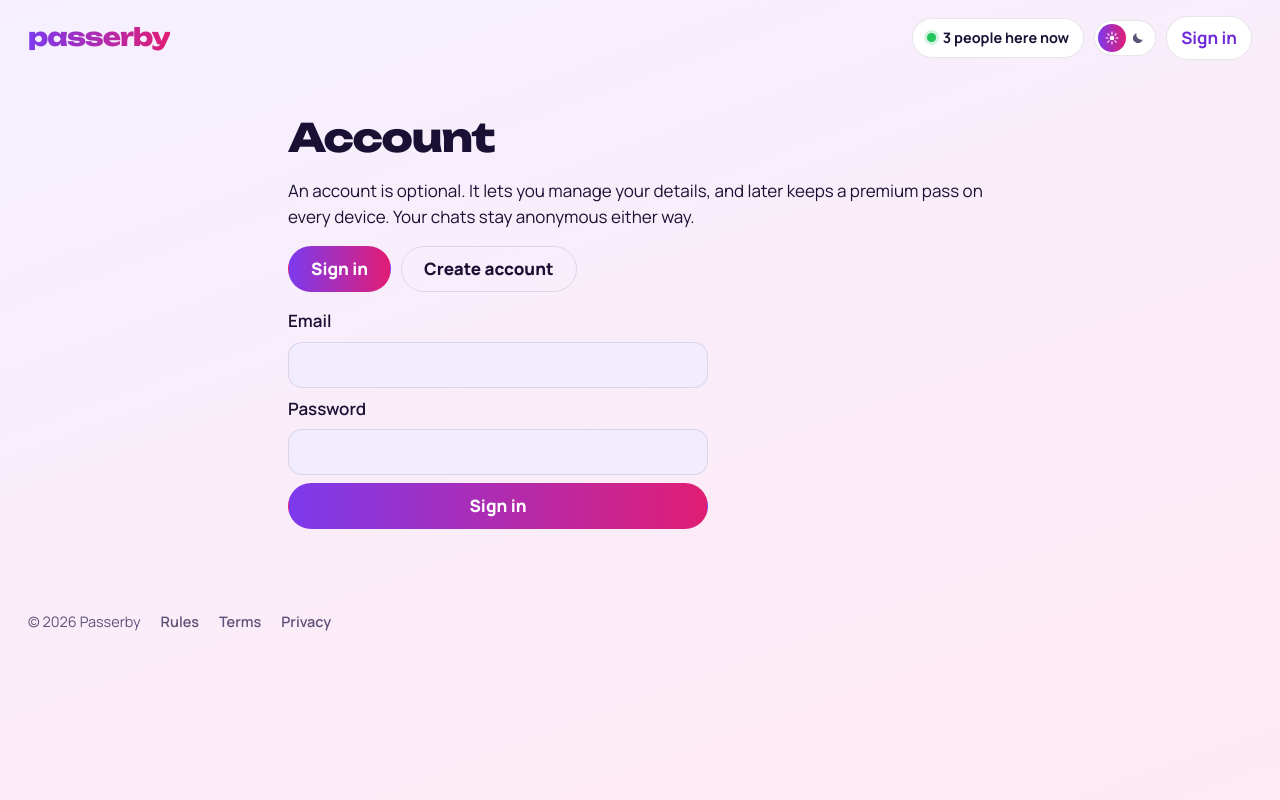
Test case: the question on the sign-up form › sends m as the answer
The image size is (1280, 800).
expect the form "Sign in" is shown: met, box x1=288 y1=308 x2=708 y2=529
Click the button "Create account": (489, 269) x1=401 y1=246 x2=576 y2=292
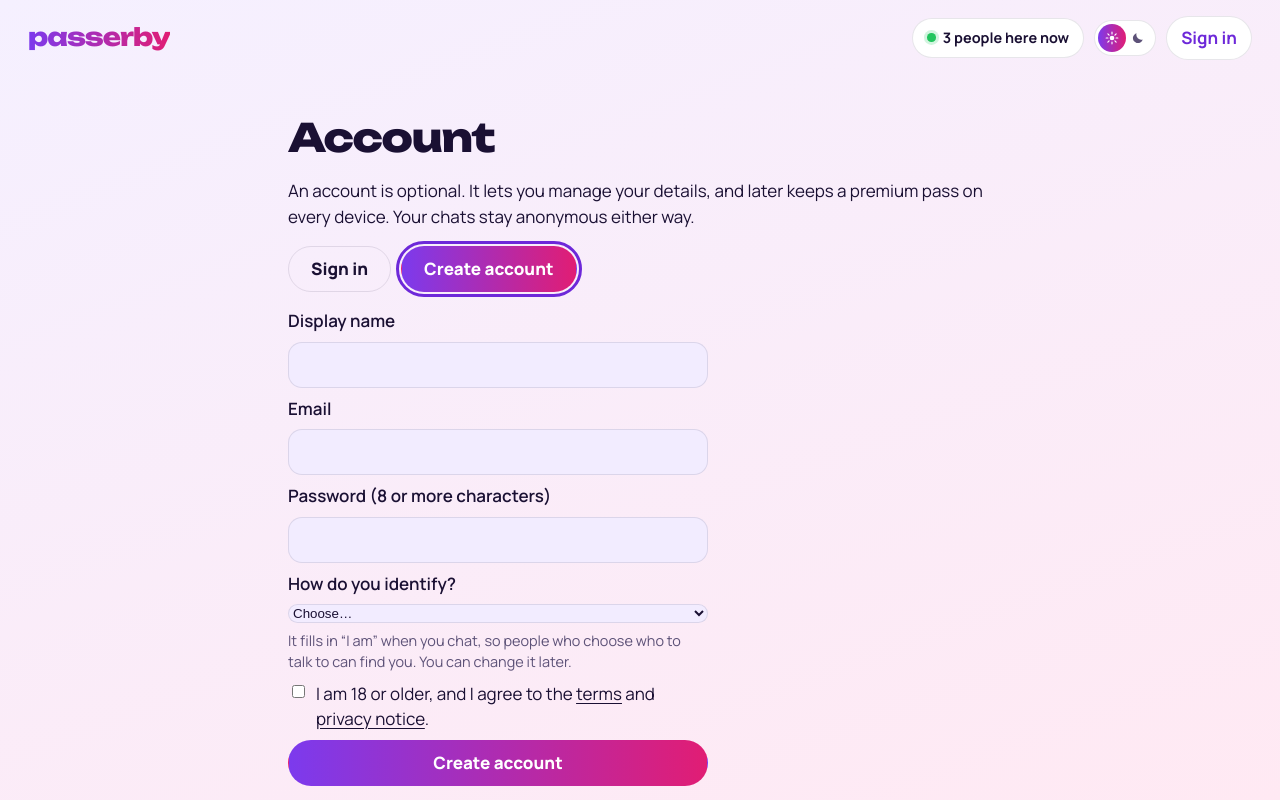
In the field labelled "Display name": (498, 364) x1=288 y1=342 x2=708 y2=388, type "Sam"
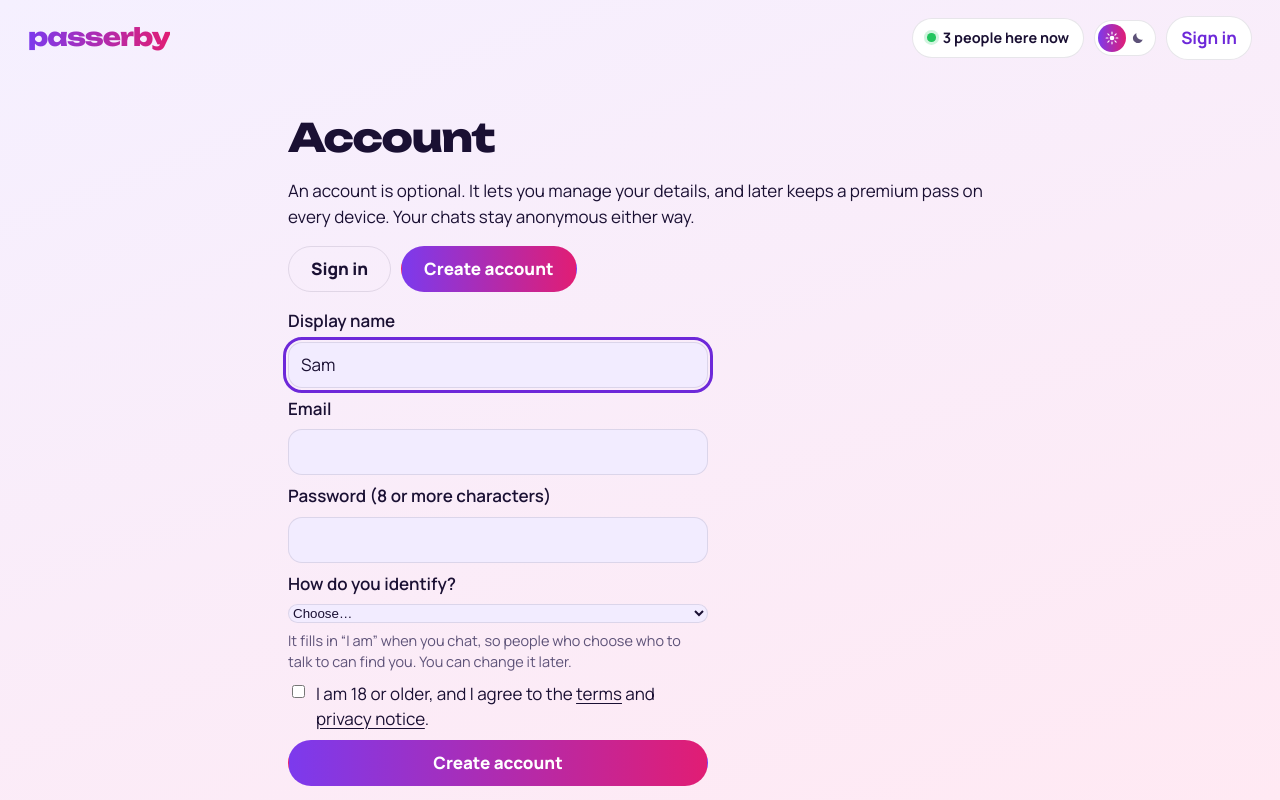
In the field labelled "Email": (498, 452) x1=288 y1=429 x2=708 y2=475, type "sam@example.com"
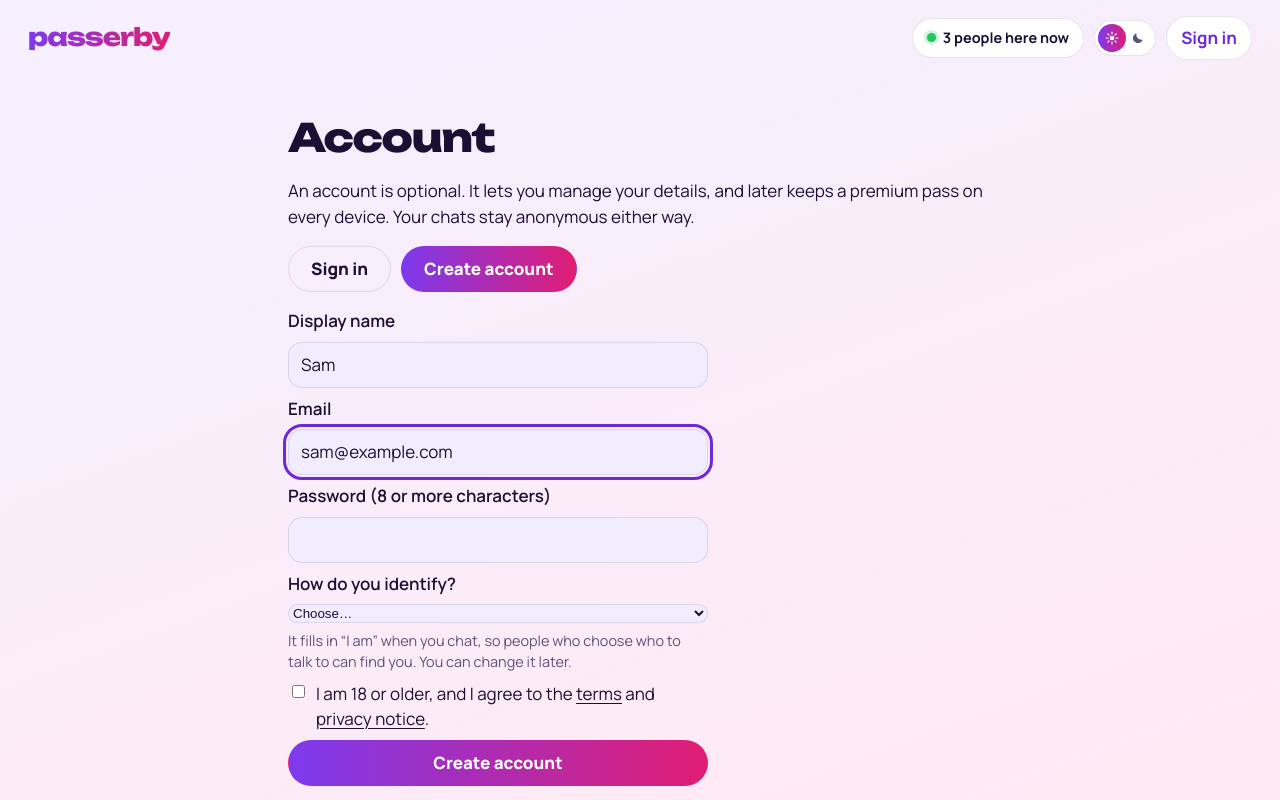
In the password field labelled "Password (8 or more characters)": (498, 540) x1=288 y1=516 x2=708 y2=562, type "correct horse"
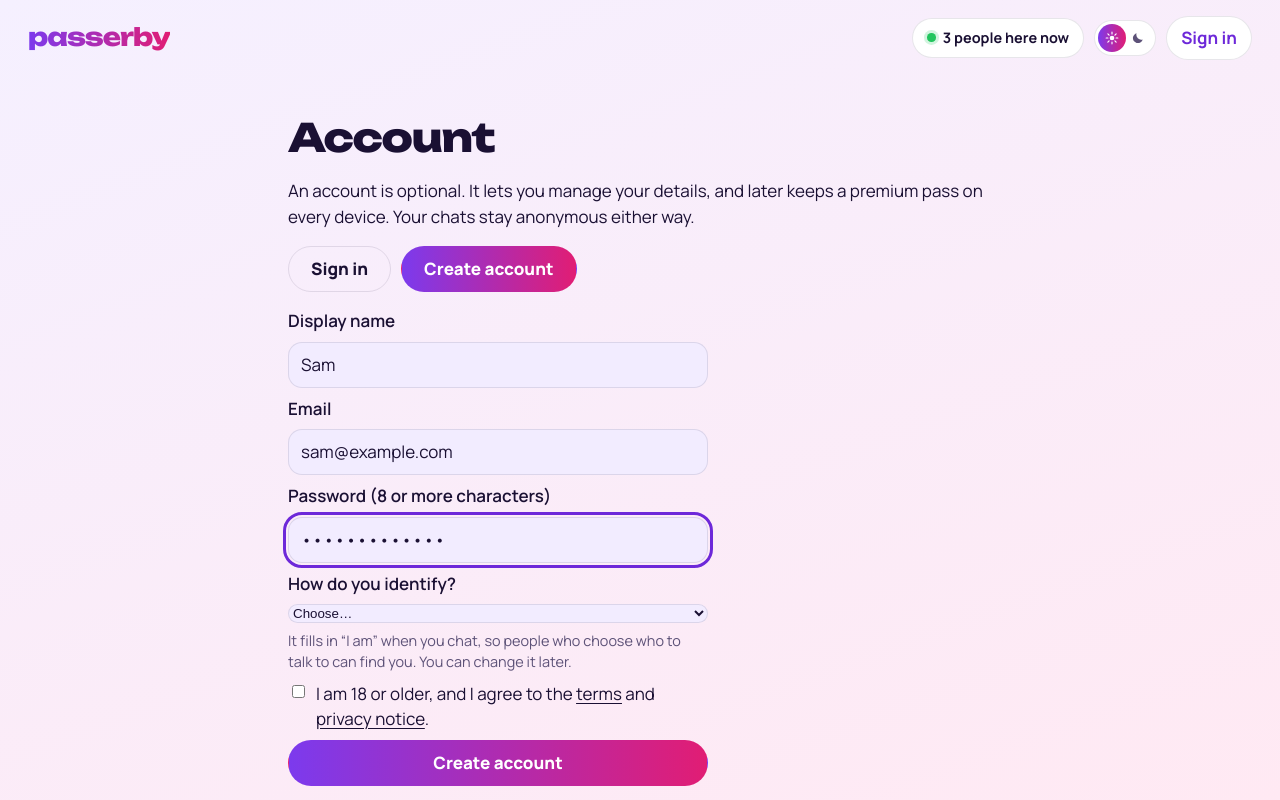
Click the checkbox: (298, 692) x1=292 y1=685 x2=305 y2=698
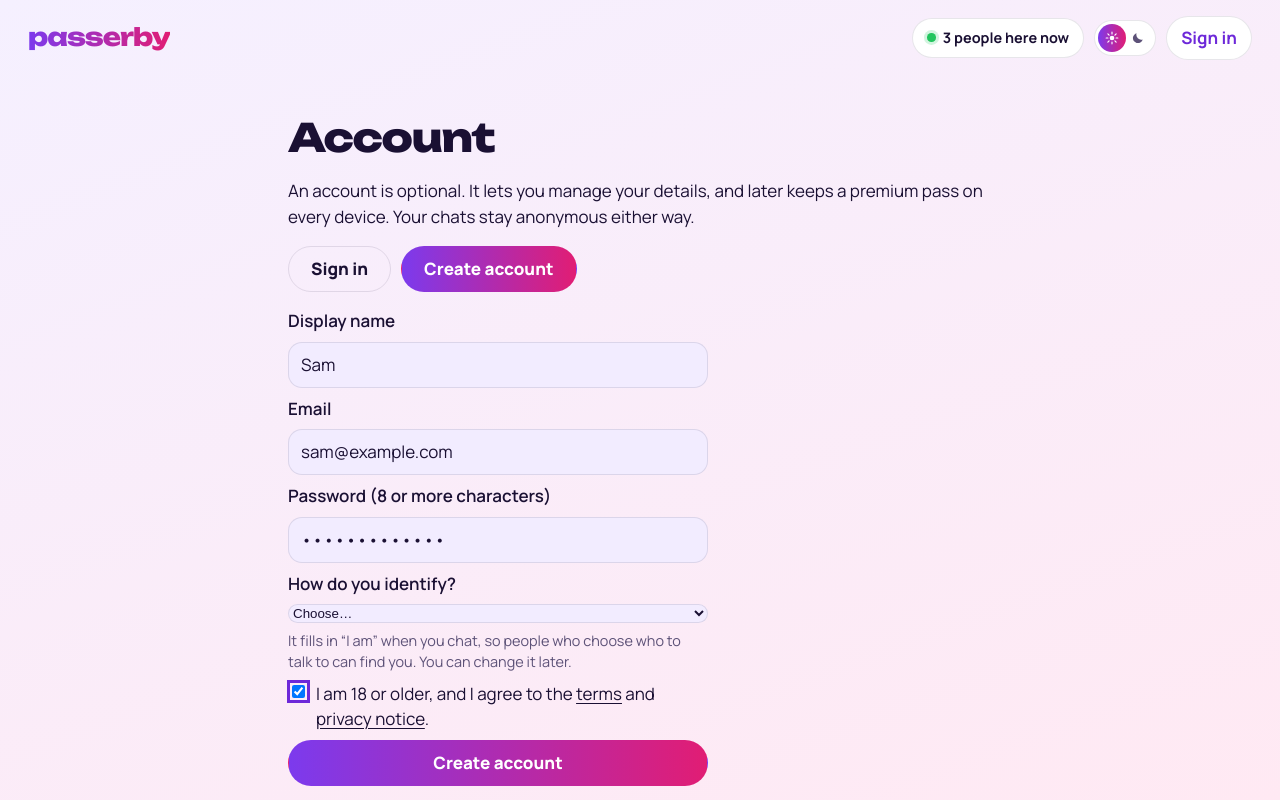
Select "Male" in the dropdown labelled "How do you identify?": (498, 614) x1=288 y1=604 x2=708 y2=623
Click the button "Create account" below "privacy notice": (498, 763) x1=288 y1=740 x2=708 y2=786
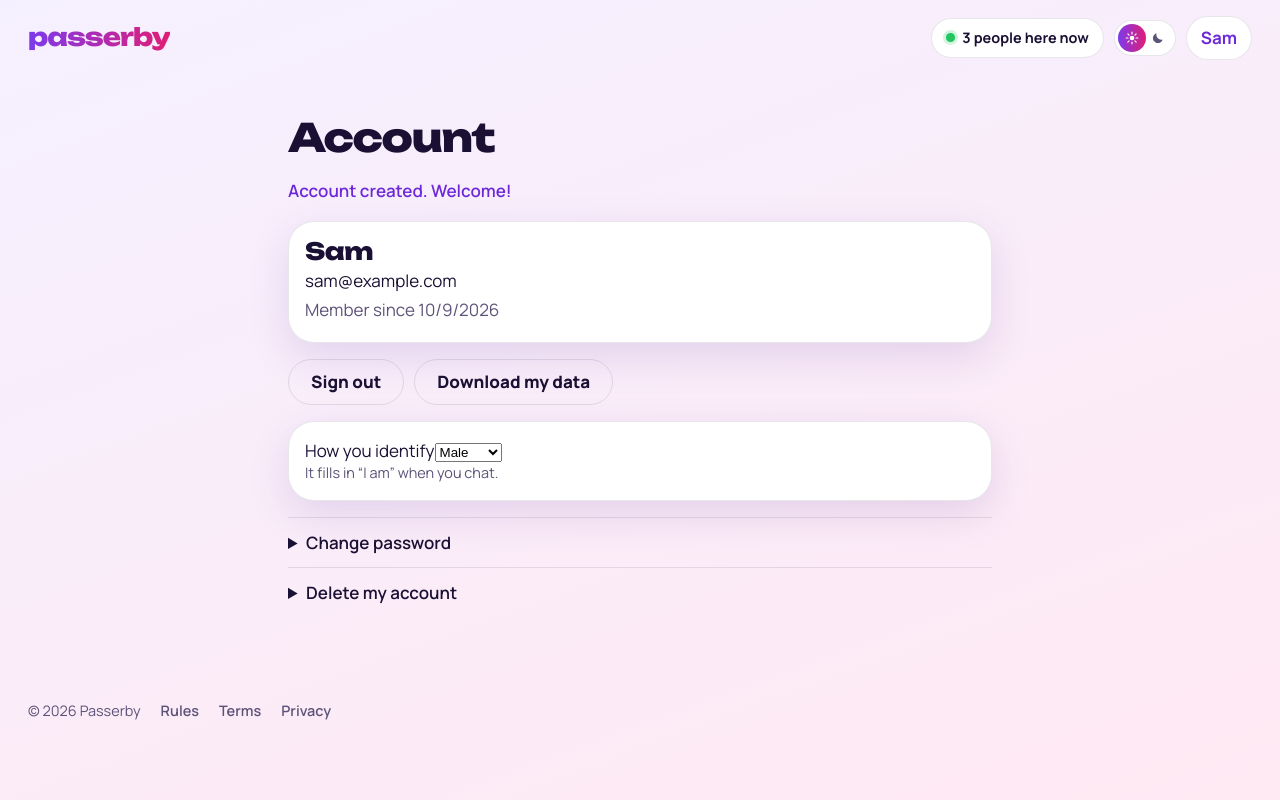
expect the heading "Sam" is shown: met, box x1=305 y1=236 x2=373 y2=266
